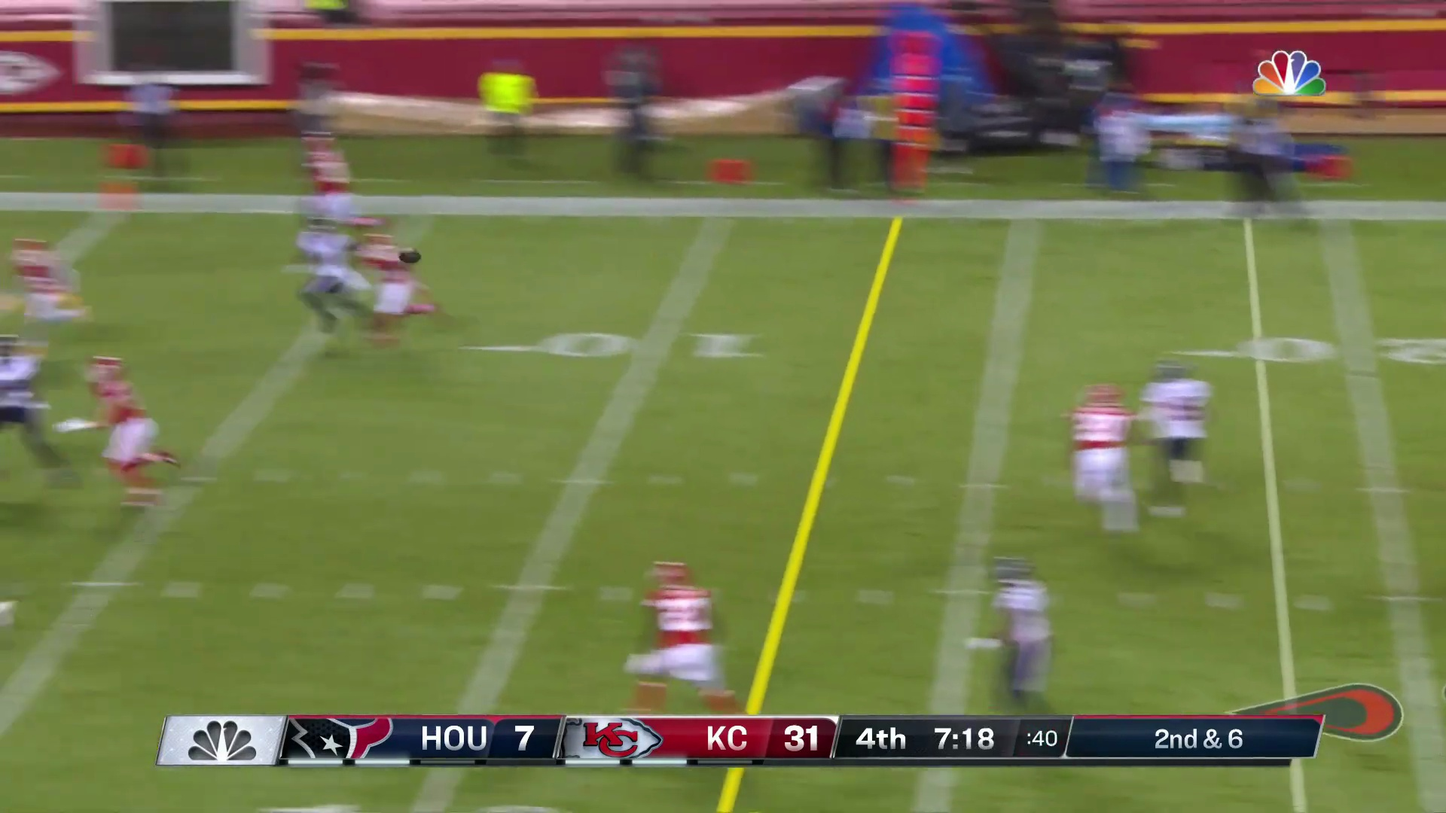Player: (1071, 383, 1137, 530), (1141, 357, 1211, 480), (358, 232, 435, 336), (297, 217, 364, 333), (13, 239, 83, 321), (0, 339, 45, 429)
